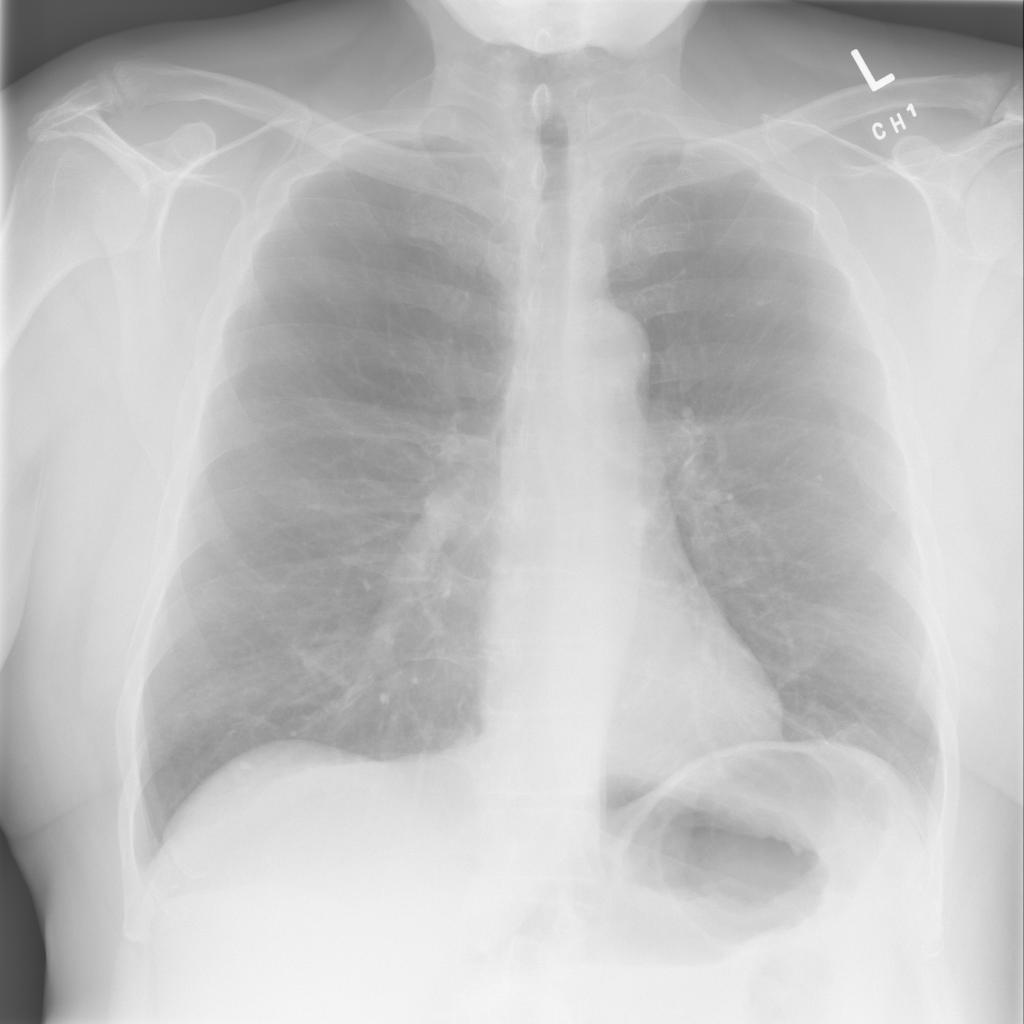Nodule: (142, 119, 158, 144)
